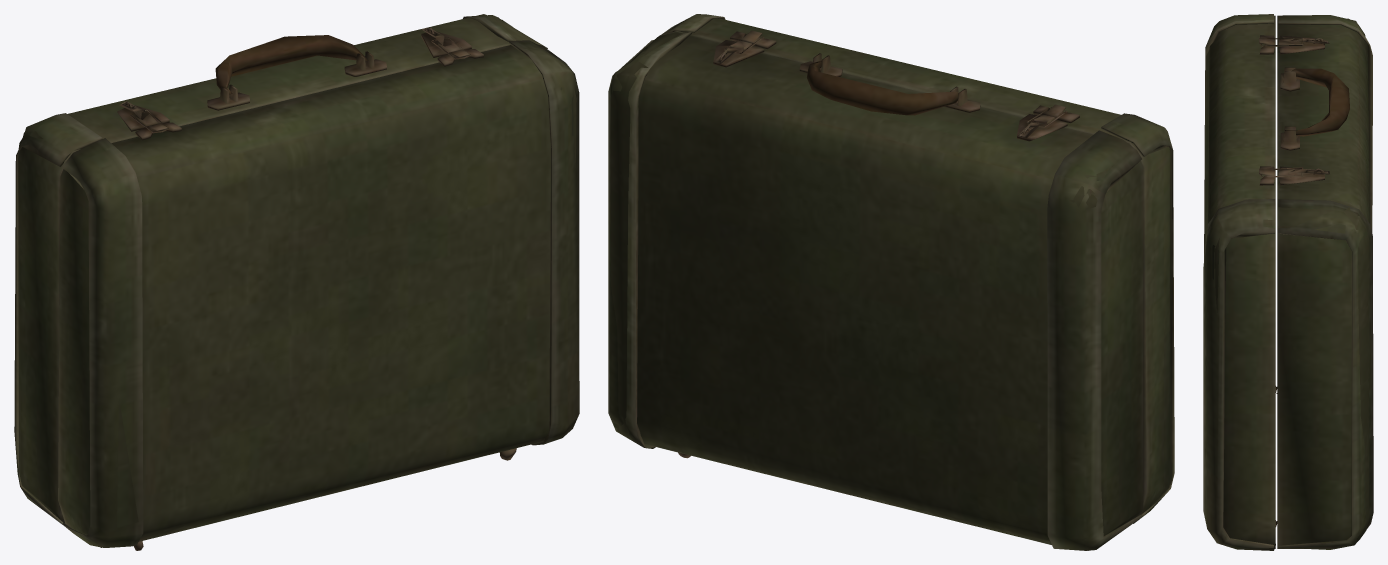
File: suitcase.glb
3 views of the same model, side by side, from view 1: azimuth 30°, elevation 25°; view 2: azimuth 150°, elevation 25°; view 3: azimuth 270°, elevation 25° (orthographic). The views are drawn at different scales.
Visible parts, largest first — view 1: vintage_suitcase_01_bottom; view 2: vintage_suitcase_01_bottom; view 3: vintage_suitcase_01_bottom.
Part boxes in pixels (x1,y1,x2,y2): vintage_suitcase_01_bottom: (14,14,579,550); vintage_suitcase_01_bottom: (608,14,1174,550); vintage_suitcase_01_bottom: (1203,14,1373,550).
Bounding box in the file's own units: 0.6928 × 0.5658 × 0.2336.
1 material, 1 textured.
